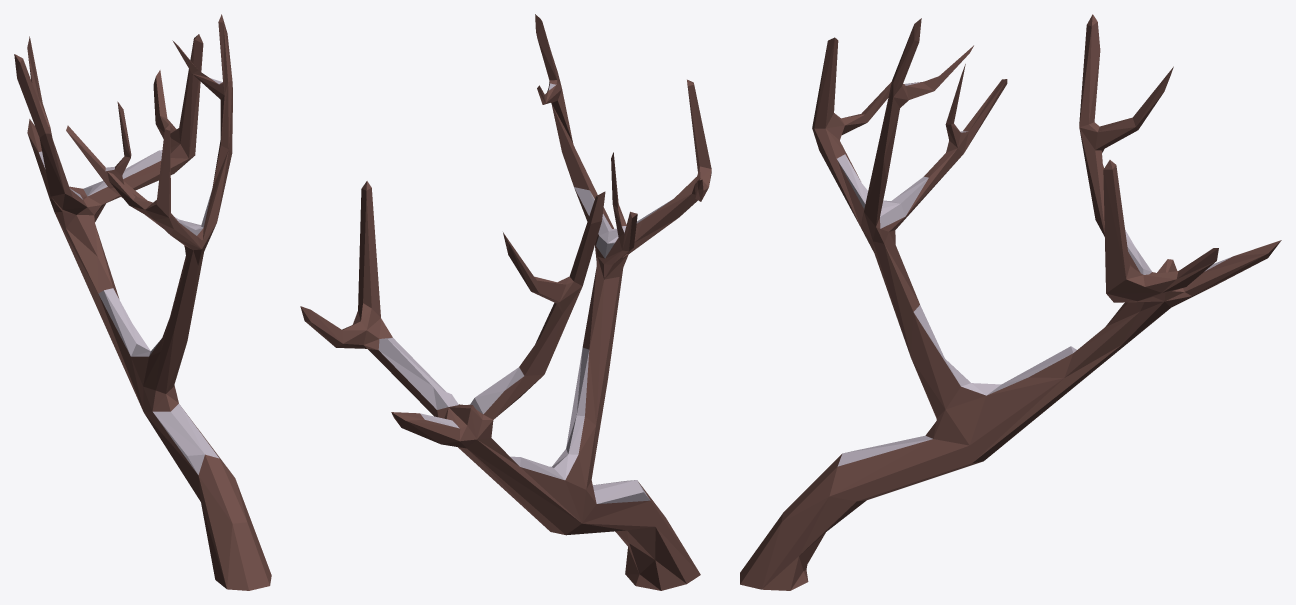
File: Willow_Dead_Snow_2.lod2.glb
3 renders of one model, left to right at view 1: azimuth 30°, elevation 25°; view 2: azimuth 150°, elevation 25°; view 3: azimuth 270°, elevation 25°, orthographic. The views are drawn at different scales.
Visible parts, largest first — view 1: Willow_Dead_Snow_2; view 2: Willow_Dead_Snow_2; view 3: Willow_Dead_Snow_2.
Part boxes in pixels (box(x1,y1,x2,y2)): Willow_Dead_Snow_2: box(14, 14, 271, 590); Willow_Dead_Snow_2: box(300, 14, 711, 590); Willow_Dead_Snow_2: box(740, 14, 1281, 590).
Bounding box in the file's own units: 1.17 × 2.83 × 2.38.
